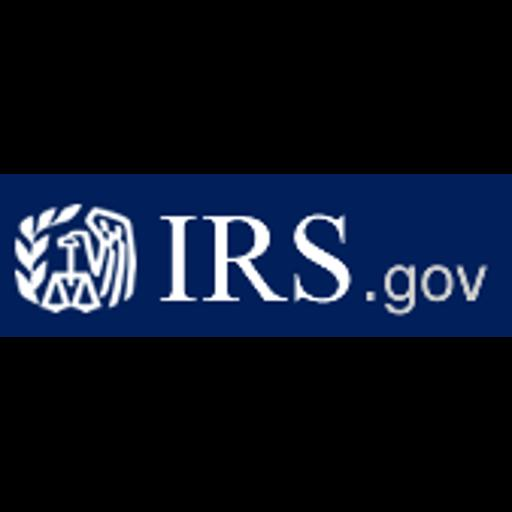IRS: (0, 174, 512, 337)
